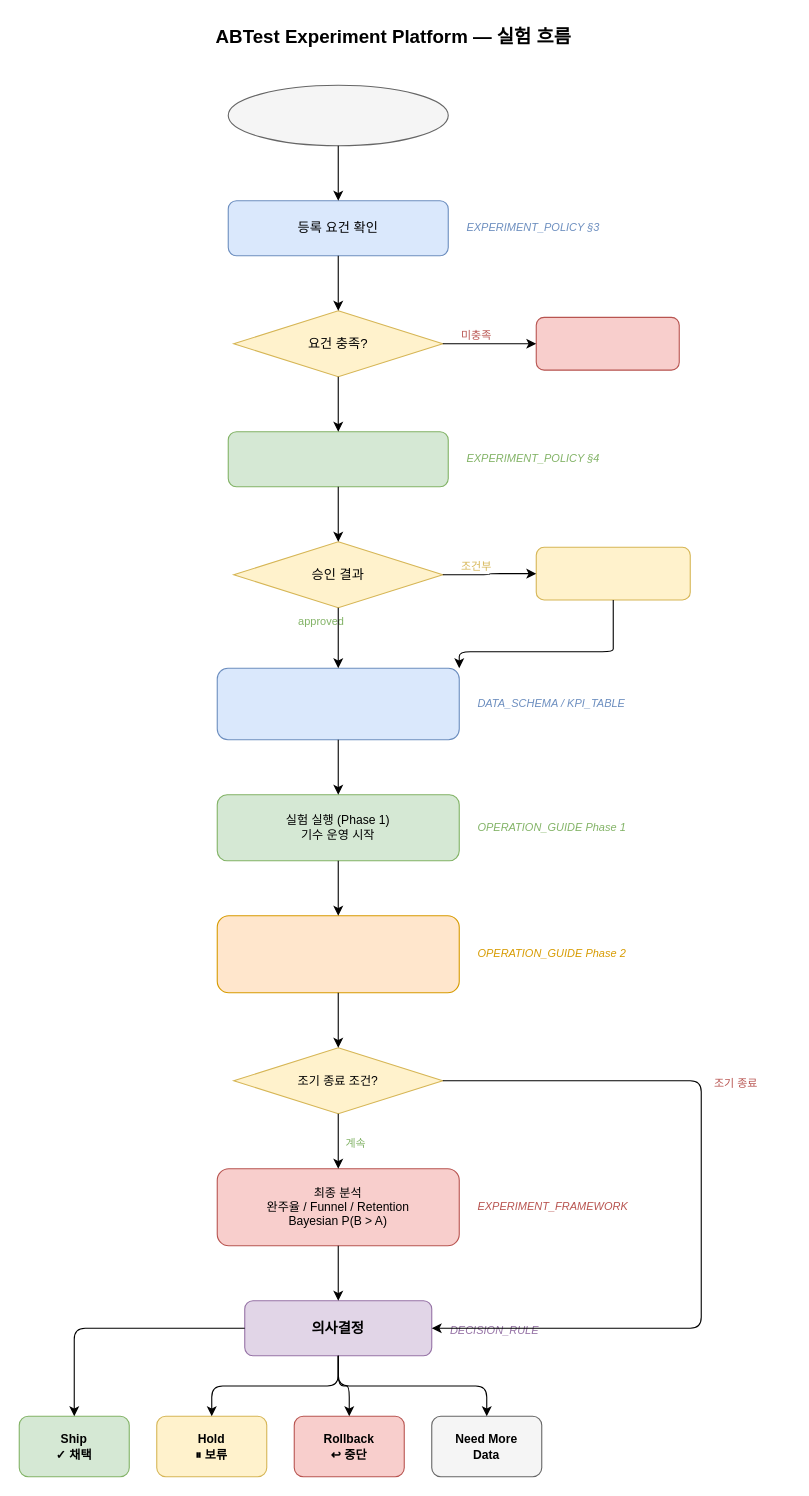
The diagram is 809 pixels wide and 1496 high, and some of its shapes have lost their labels. The shapes that lost their labels are listed below. From the top down, each one's box as (x1, y1, x2, y2) in pixels, then its label:
(227, 84, 448, 146): 실험 아이디어 발생
(535, 316, 679, 370): 등록 반려 (재작성 요청)
(227, 431, 448, 487): 승인 검토
(535, 546, 690, 600): 조건부 승인 조건 기록 후 진행
(216, 667, 459, 740): 설계 준비 Cohort 메타데이터 기록 데이터 수집 체계 확인
(216, 915, 459, 993): 진행 모니터링 (Phase 2) 주간 Guardrail 점검 Sequential Testing 규칙 준수
